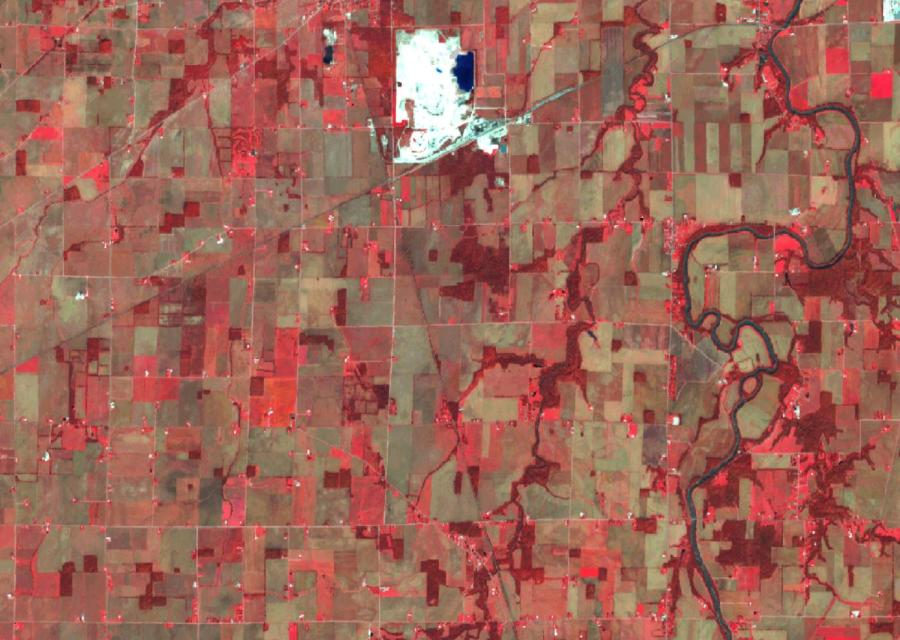Potential Lime Manufacturing Facility: (392, 25, 508, 159)
